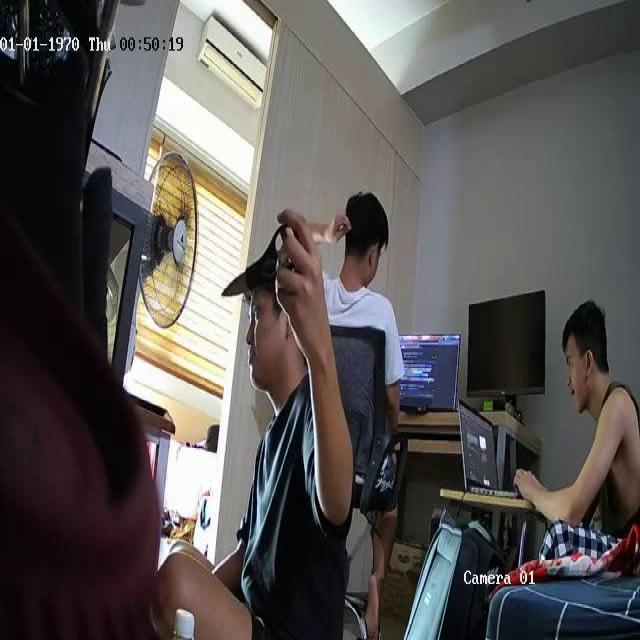scissor: (223, 223, 296, 294)
